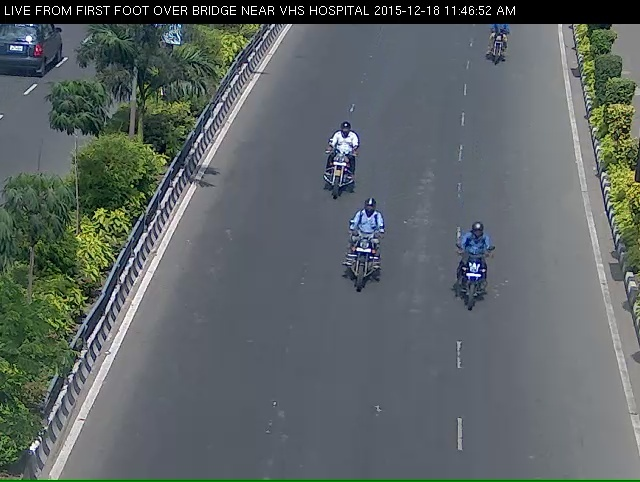Person: (340, 237, 385, 327), (310, 143, 353, 224), (460, 244, 495, 338), (485, 31, 512, 79)
